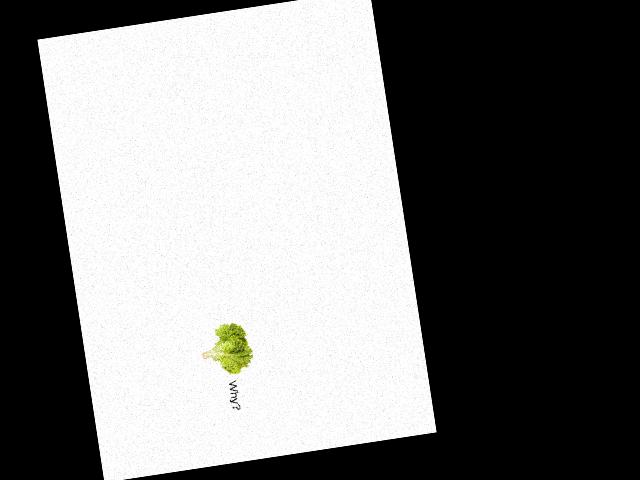lettuce: (197, 318, 256, 383)
